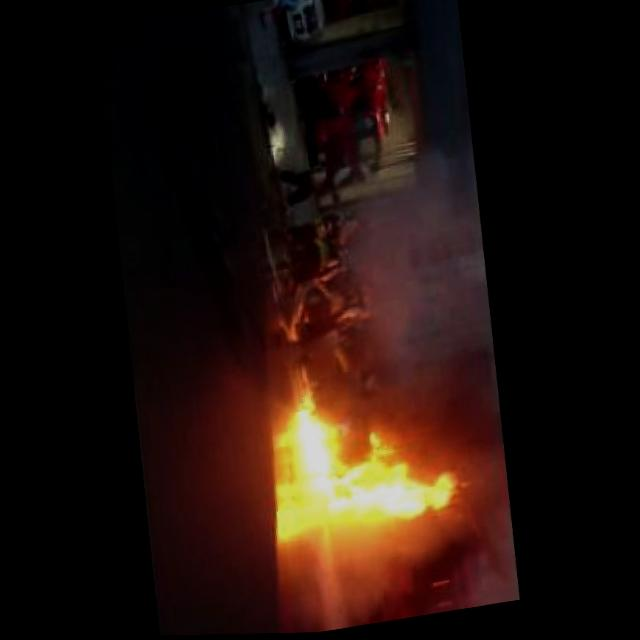Fire: (283, 373, 470, 549)
